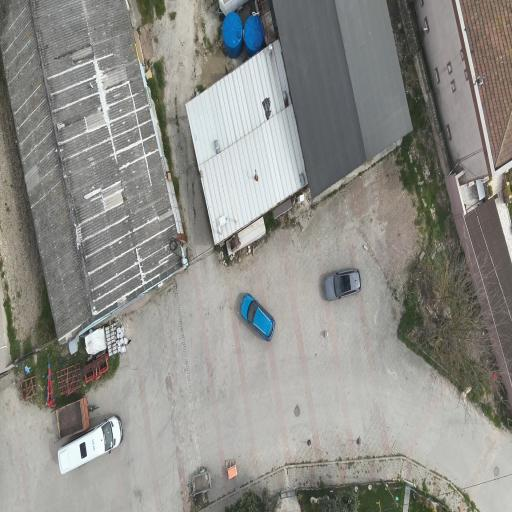car: (58, 416, 122, 474), (241, 294, 275, 340), (324, 269, 360, 300)
